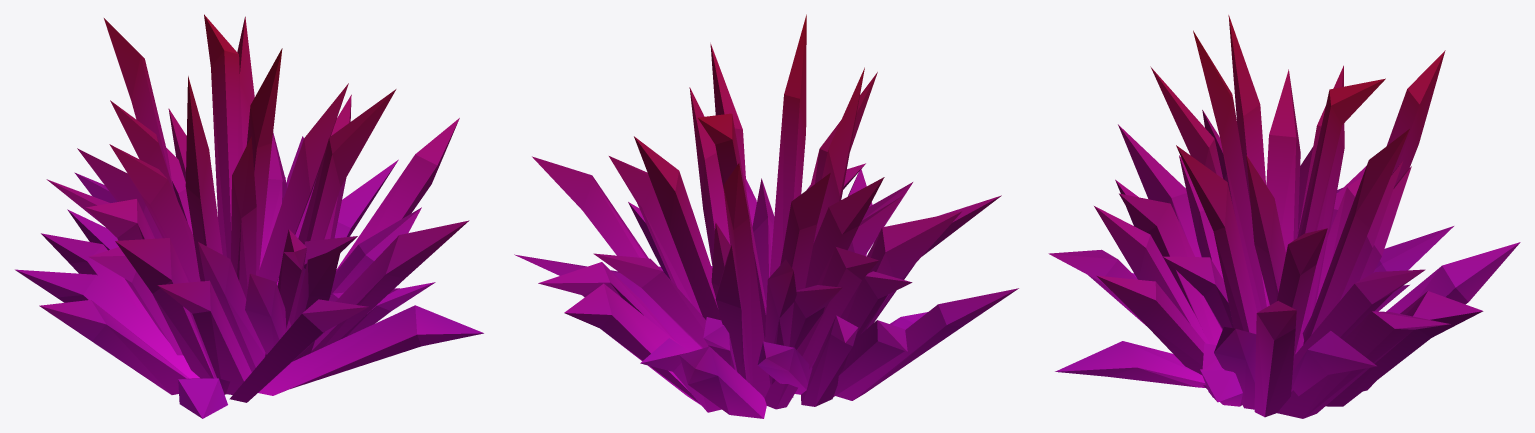
The model's file is synty-plant-grass-03.gltf.
3 renders of one model, left to right at view 1: azimuth 30°, elevation 25°; view 2: azimuth 150°, elevation 25°; view 3: azimuth 270°, elevation 25°, orthographic. The views are drawn at different scales.
Visible parts, largest first — view 1: SM_Plant_Grass_03; view 2: SM_Plant_Grass_03; view 3: SM_Plant_Grass_03.
Part boxes in pixels (<box>): SM_Plant_Grass_03: <box>15,14,483,418</box>; SM_Plant_Grass_03: <box>514,14,1018,418</box>; SM_Plant_Grass_03: <box>1048,15,1520,418</box>.
Bounding box in the file's own units: 0.9086 × 0.6554 × 0.7951.
